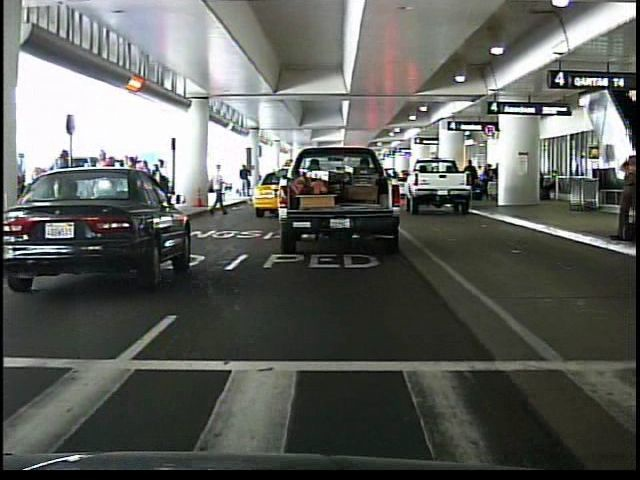person: (89, 147, 117, 228), (207, 159, 230, 217), (238, 162, 256, 197)
